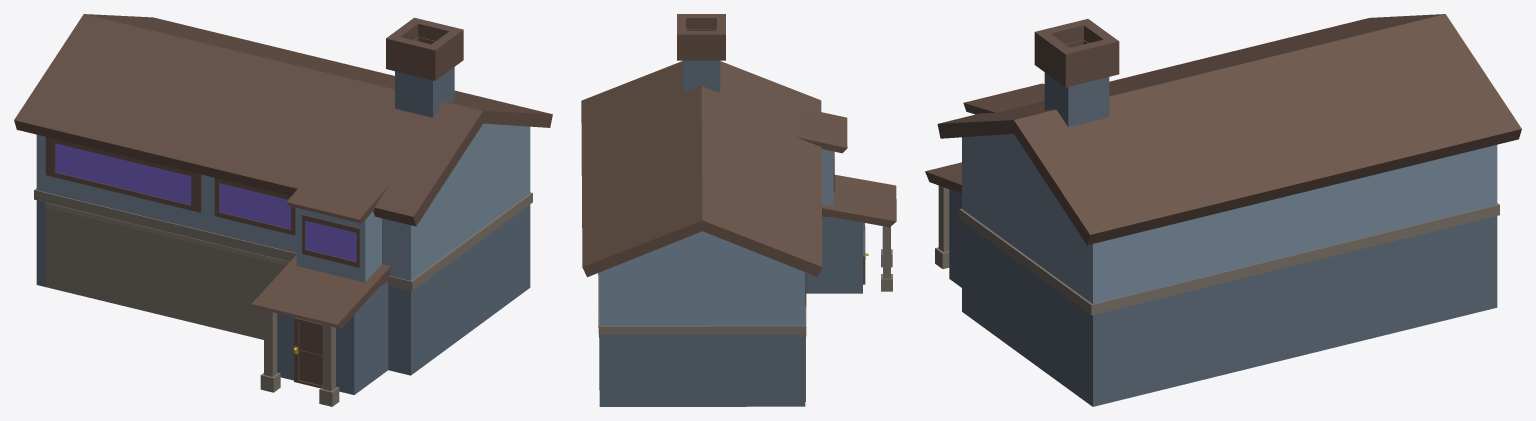
File: CALLE4_CASA2_022.fbx
3 views of the same model, side by side, from view 1: azimuth 30°, elevation 25°; view 2: azimuth 150°, elevation 25°; view 3: azimuth 270°, elevation 25° (orthographic). The views are drawn at different scales.
Visible parts, largest first — view 1: CASA2.022; view 2: CASA2.022; view 3: CASA2.022.
Boxes of the visible parts, x1,y1,x2,y2 form: CASA2.022: [14, 14, 552, 406]; CASA2.022: [581, 14, 896, 406]; CASA2.022: [925, 14, 1521, 406].
Size of the model in its own units: 1019 by 680 by 1185.
